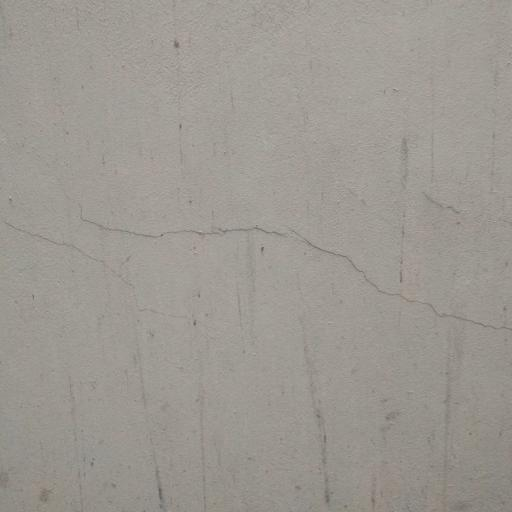minor_crack: (0, 206, 505, 338)
